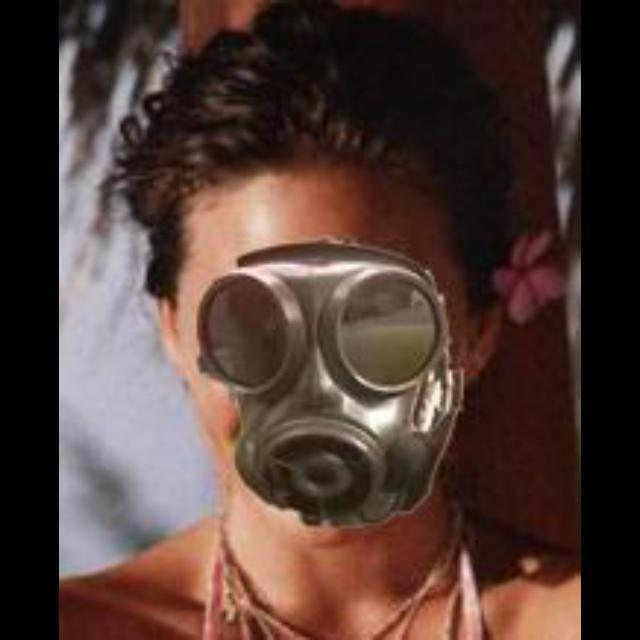suspicion: (136, 120, 498, 554)
